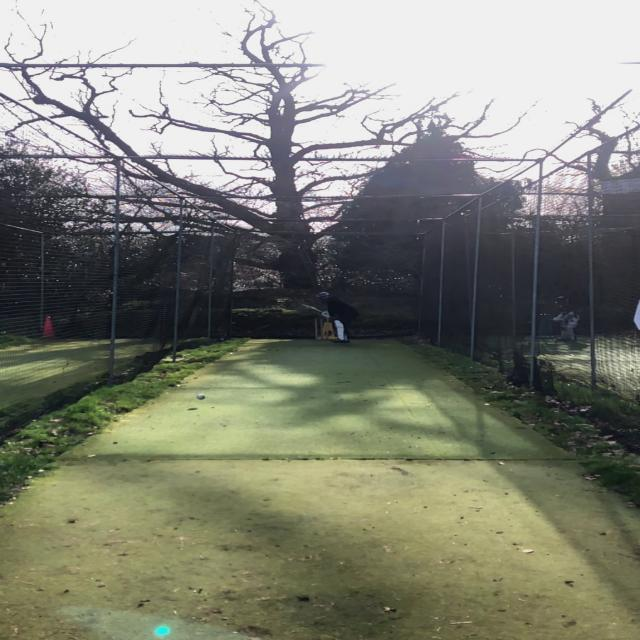ball: (196, 393, 207, 401)
